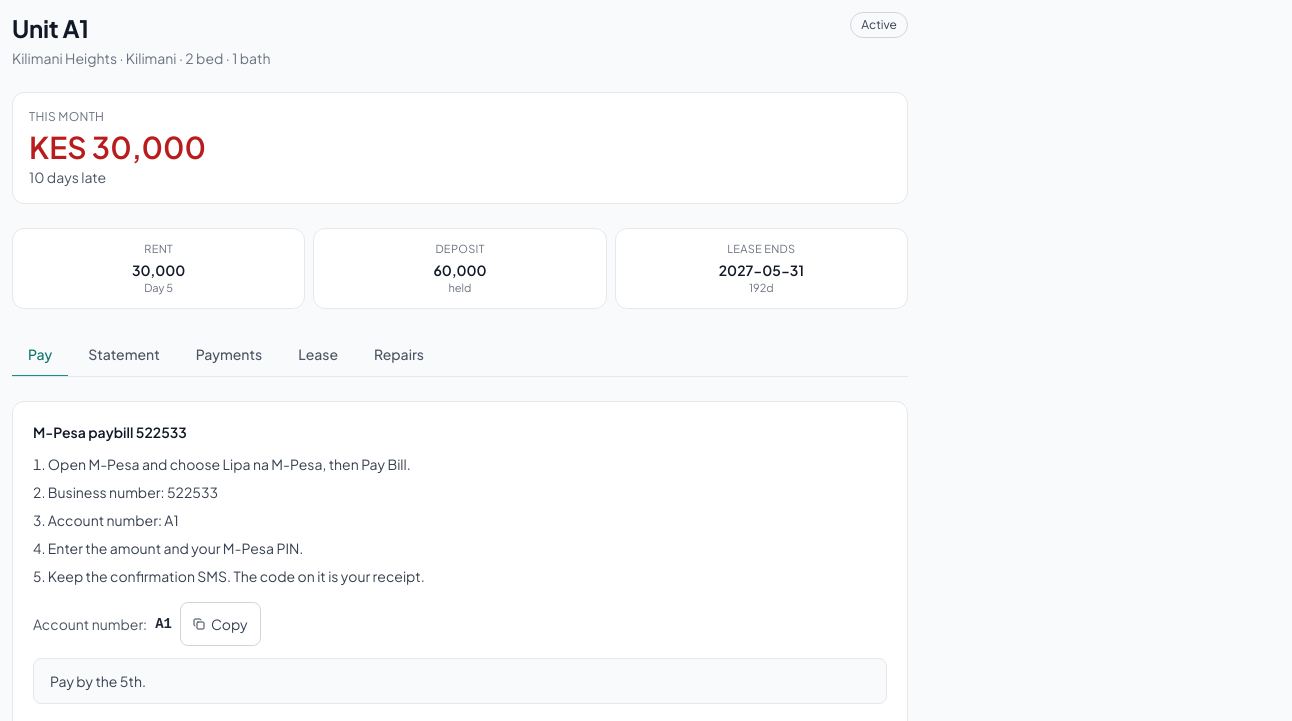
the statement the tenant can read themselves › shows money received that is not yet applied to a month
Click the tab "Statement" at (124, 355), box [72,333,176,377]
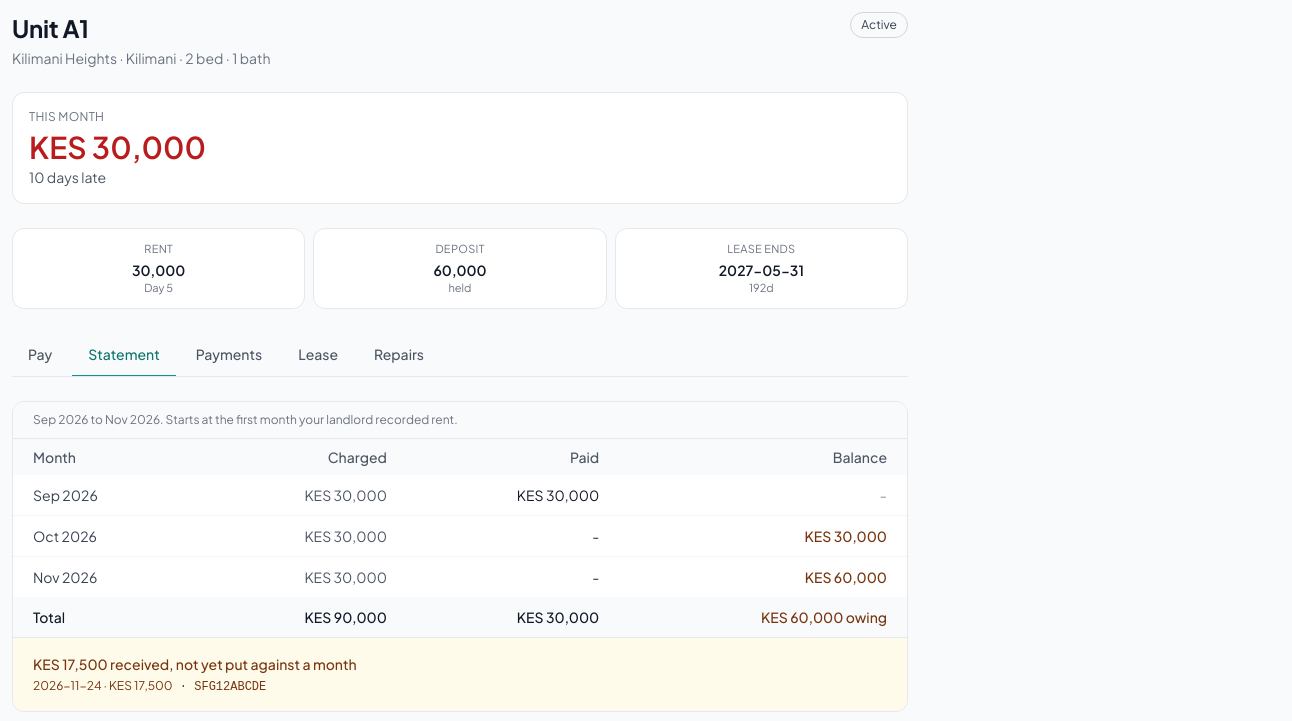
Check: the text "KES 17,500 received, not yet put against a month" is shown, box [33,655,357,673]
Check: the text "· SFG12ABCDE" is shown, box [173,680,266,694]
